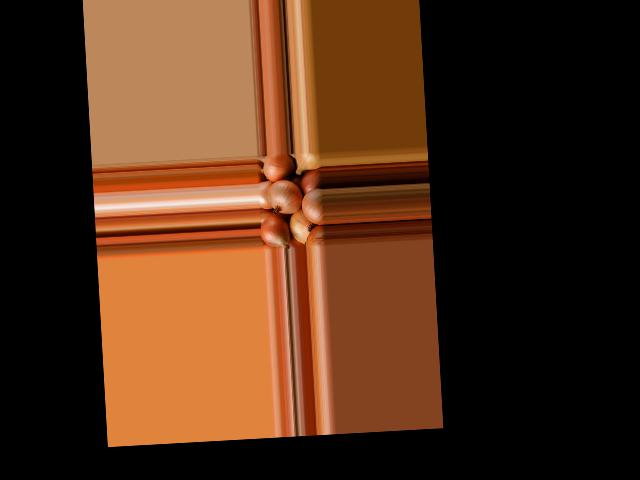onion: (258, 179, 276, 211)
